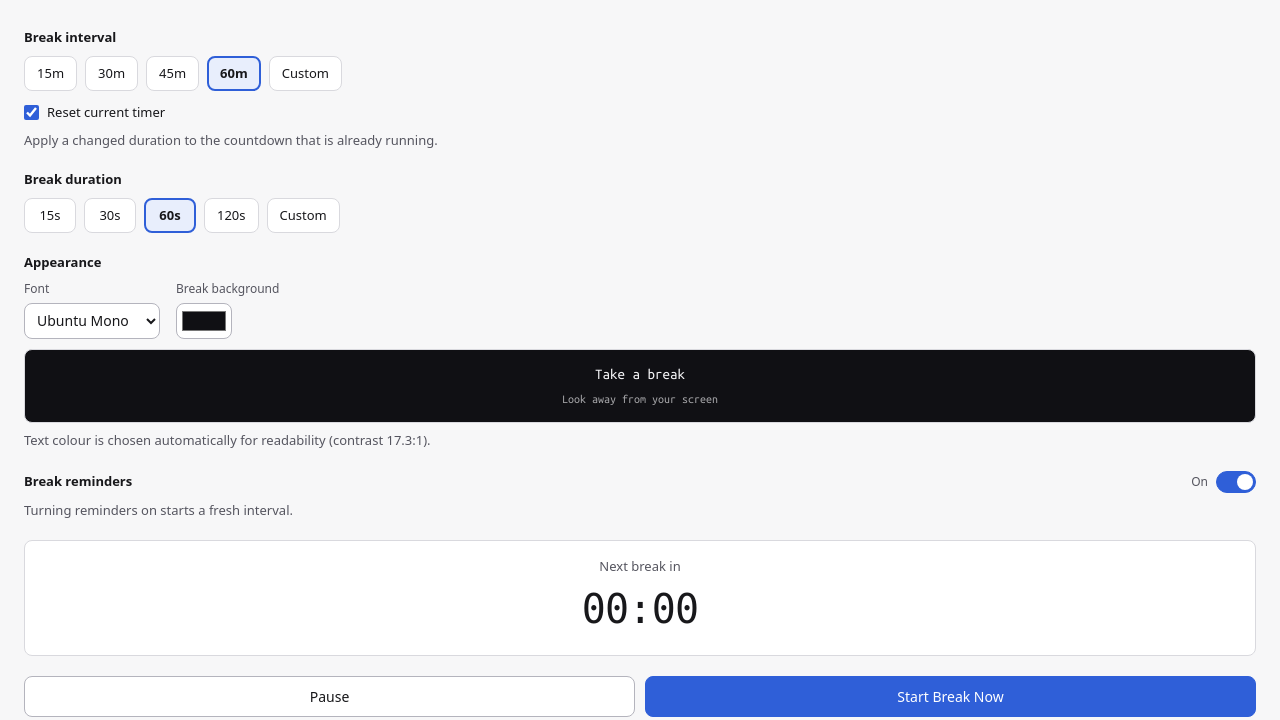
configuring durations › opens the custom fields at the configured prefill, not the current value
Click the radio button labelled "Custom" in the row of "45" at (305,73), box [269,56,342,91]
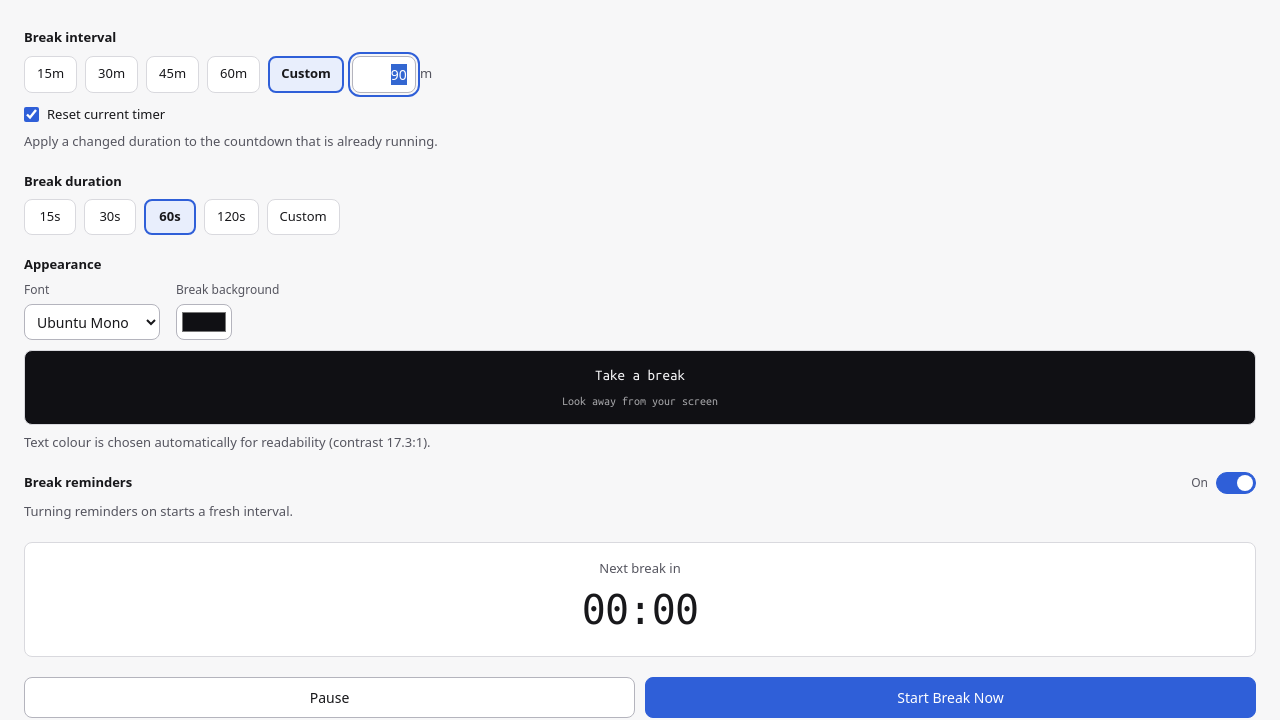
Now the field named "Custom (minutes)" holds "90", box [352,56,416,92]
Click the radio button labelled "Custom" in the row of "120" at (303,217), box [266,199,340,234]
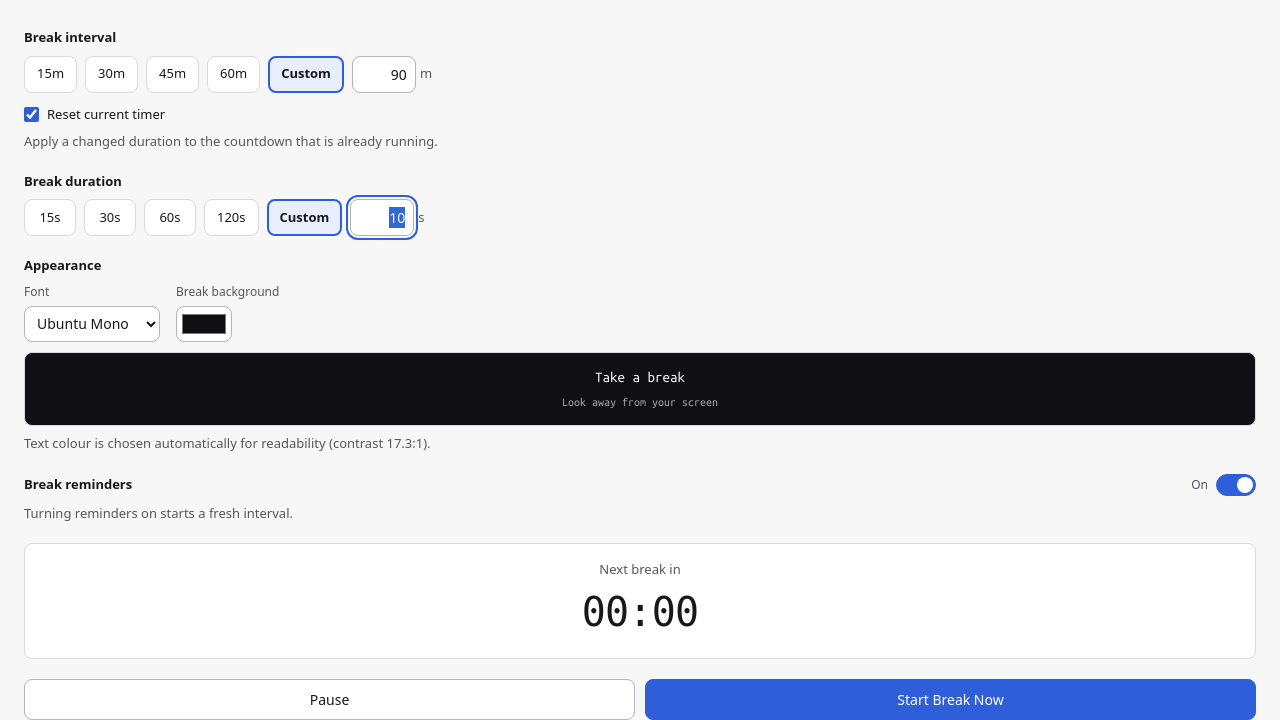
Now the field named "Custom (seconds)" holds "10", box [350,199,414,236]
